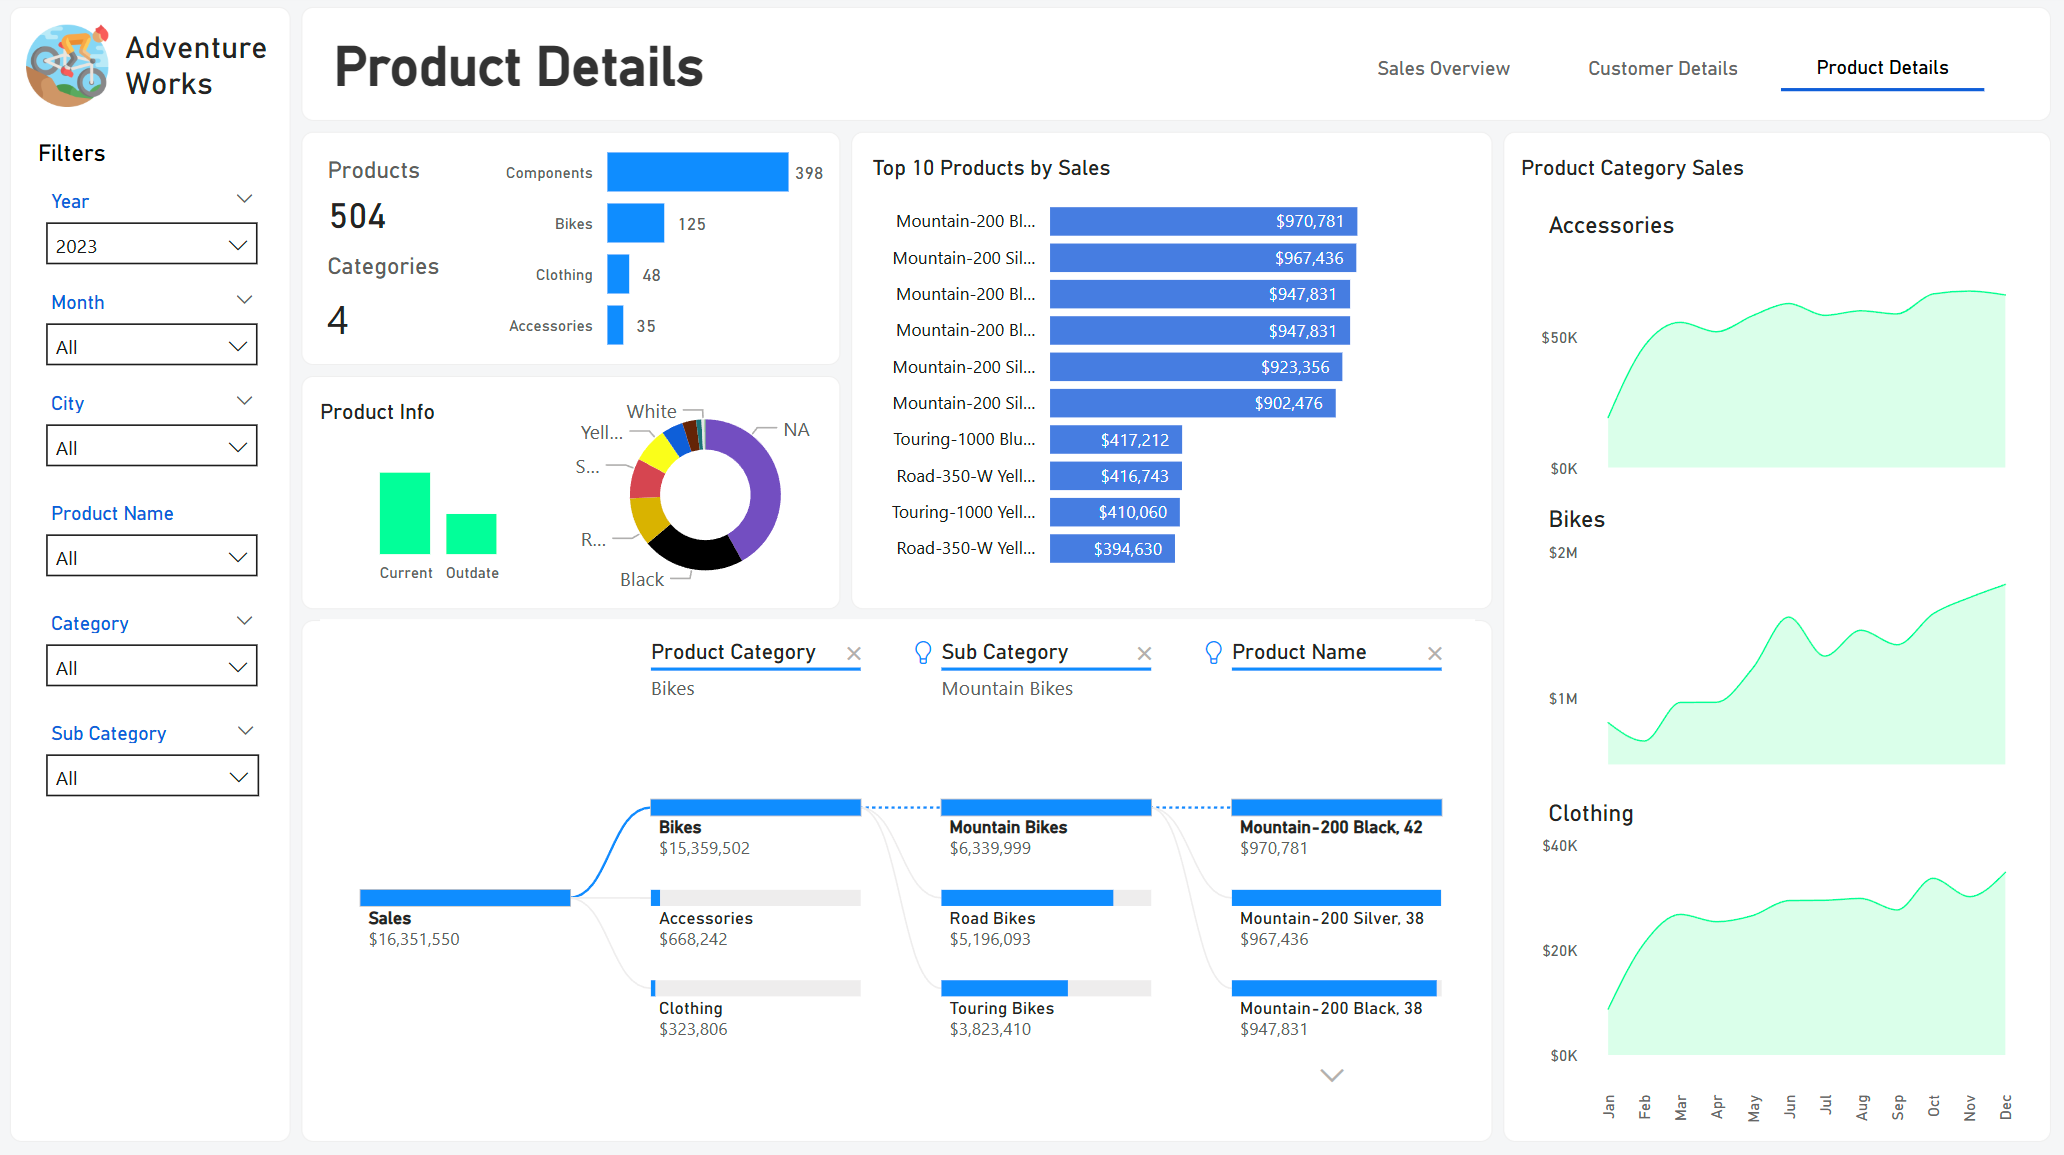

The page's visual inventory and layout, read from the dashboard file:
{"tool":"powerbi","page":{"name":"Product Details","canvas":[1280,720],"ordinal":2},"visuals":[{"type":"BBED0A4D4D8D44CE93CF2DAFADEE466C","fields":{"actual":["FACT_InternetSales_CSV.Sales"],"target1":["FACT_Budget.Budget Amount"],"target2":["FACT_Budget.Sales - Budget"]},"box":[554.9,231.2,12.3,12.3],"z":0},{"type":"cardVisual","fields":{"Data":["Count(DIM_Products_CSV.ProductName)"]},"box":[186.5,83.5,157.2,74.6],"z":2000},{"type":"barChart","title":"Top 10 Products by Sales","fields":{"Y":["Key Measures.Sales"],"Category":["DIM_Products_CSV.ProductName"]},"box":[532.1,90.6,358,280.7],"z":3000},{"type":"lineChart","title":"Product Category Sales","fields":{"Y":["Key Measures.Sales"],"Category":["DIM_Calendar_CSV.MonthShort"],"Rows":["DIM_Products_CSV.ProductCategory"]},"box":[938,99.5,331.3,612],"z":4000},{"type":"decompositionTreeVisual","fields":{"Analyze":["Sum(FACT_InternetSales_CSV.SalesAmount)"],"ExplainBy":["DIM_Products_CSV.ProductCategory","DIM_Products_CSV.SubCategory","DIM_Products_CSV.ProductName"]},"box":[193.6,382,725.7,329.5],"z":5000},{"type":"barChart","fields":{"Category":["DIM_Products_CSV.ProductCategory"],"Y":["CountNonNull(DIM_Products_CSV.ProductKey)"]},"box":[308.2,72,207.9,163.4],"z":6000},{"type":"textbox","box":[202.5,19.5,375.7,48],"z":14000},{"type":"pageNavigator","box":[832.3,26.6,400.6,33.8],"z":15000},{"type":"columnChart","fields":{"Category":["DIM_Products_CSV.ProductStatus"],"Y":["CountNonNull(DIM_Products_CSV.ProductStatus)"]},"box":[193.6,257.6,158.1,113.7],"z":16000},{"type":"donutChart","fields":{"Category":["DIM_Products_CSV.ProductColor"],"Y":["CountNonNull(DIM_Products_CSV.ProductColor)"]},"box":[351.8,237.2,171.4,144.8],"z":17000},{"type":"textbox","box":[193.6,243.4,129.7,28.4],"z":18000},{"type":"cardVisual","fields":{"Data":["Count(DIM_Products_CSV.ProductCategory)"]},"box":[186.5,143,121.7,80.8],"z":18001},{"type":"slicer","fields":{"Values":["DIM_Customers_CSV.CustomerCity"]},"box":[19,241.1,151,60],"z":18002},{"type":"slicer","fields":{"Values":["DIM_Products_CSV.SubCategory"]},"box":[19,445.7,151.5,60],"z":18003},{"type":"slicer","fields":{"Values":["DIM_Products_CSV.ProductCategory"]},"box":[19,377.5,151,60],"z":18004},{"type":"slicer","fields":{"Values":["DIM_Products_CSV.ProductName"]},"box":[19,309.3,151,60],"z":18005},{"type":"slicer","fields":{"Values":["DIM_Calendar_CSV.MonthShort"]},"box":[19,178.5,151,54.5],"z":18006},{"type":"textbox","box":[19,83.5,133.4,31.6],"z":18007},{"type":"slicer","fields":{"Values":["Years.Year"]},"box":[19,115.8,151,54.5],"z":18008},{"type":"image","box":[11.5,12.4,61.3,62.2],"z":18009},{"type":"textbox","box":[72.8,16,108.4,55.1],"z":18010}]}

Visuals, with their boxes in screenshot pixels (x1, y1, x2, y2), scaled from the page's 1280x720 canvas onto the 2064x1155 screenshot:
BBED0A4D4D8D44CE93CF2DAFADEE466C - FACT_InternetSales_CSV.Sales x FACT_Budget.Budget Amount: [895, 371, 915, 391]
cardVisual - Count(DIM_Products_CSV.ProductName): [301, 134, 554, 254]
"Top 10 Products by Sales" barChart: [858, 145, 1435, 596]
"Product Category Sales" lineChart: [1513, 160, 2047, 1141]
decompositionTreeVisual - Sum(FACT_InternetSales_CSV.SalesAmount) x DIM_Products_CSV.ProductCategory: [312, 613, 1482, 1141]
barChart - DIM_Products_CSV.ProductCategory x CountNonNull(DIM_Products_CSV.ProductKey): [497, 116, 832, 378]
textbox: [327, 31, 932, 108]
pageNavigator: [1342, 43, 1988, 97]
columnChart - DIM_Products_CSV.ProductStatus x CountNonNull(DIM_Products_CSV.ProductStatus): [312, 413, 567, 596]
donutChart - DIM_Products_CSV.ProductColor x CountNonNull(DIM_Products_CSV.ProductColor): [567, 381, 844, 613]
textbox: [312, 390, 521, 436]
cardVisual - Count(DIM_Products_CSV.ProductCategory): [301, 229, 497, 359]
slicer - DIM_Customers_CSV.CustomerCity: [31, 387, 274, 483]
slicer - DIM_Products_CSV.SubCategory: [31, 715, 275, 811]
slicer - DIM_Products_CSV.ProductCategory: [31, 606, 274, 702]
slicer - DIM_Products_CSV.ProductName: [31, 496, 274, 592]
slicer - DIM_Calendar_CSV.MonthShort: [31, 286, 274, 374]
textbox: [31, 134, 246, 185]
slicer - Years.Year: [31, 186, 274, 273]
image: [19, 20, 117, 120]
textbox: [117, 26, 292, 114]
